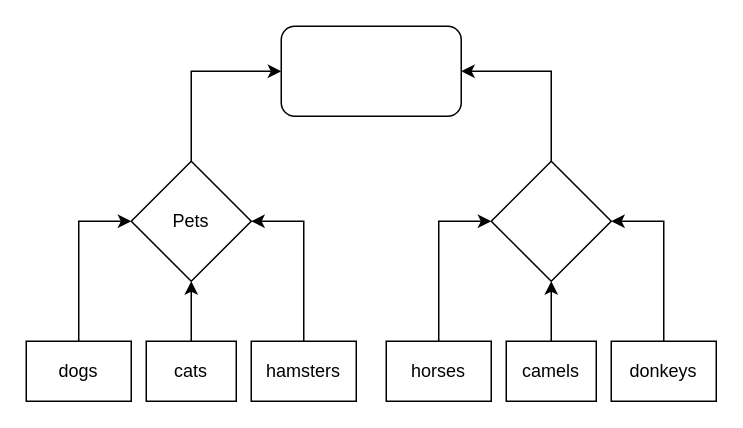
This 743x428 diagram has some shape labels left out. Here are the shapes that lost their labels. From the top down, the box of each, then its label:
(280, 25, 461, 116): Animals
(490, 160, 611, 281): Cartage
